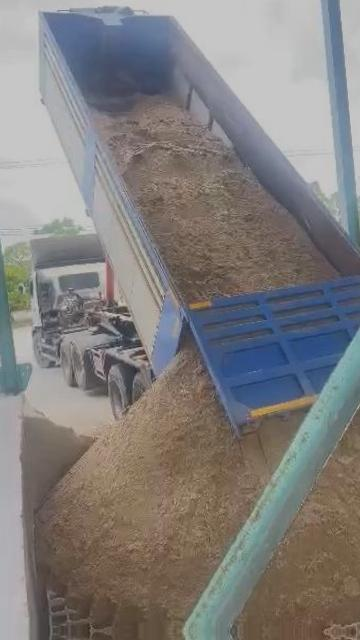sand: (37, 347, 300, 630), (96, 97, 337, 301), (242, 394, 360, 631), (21, 404, 94, 553)
